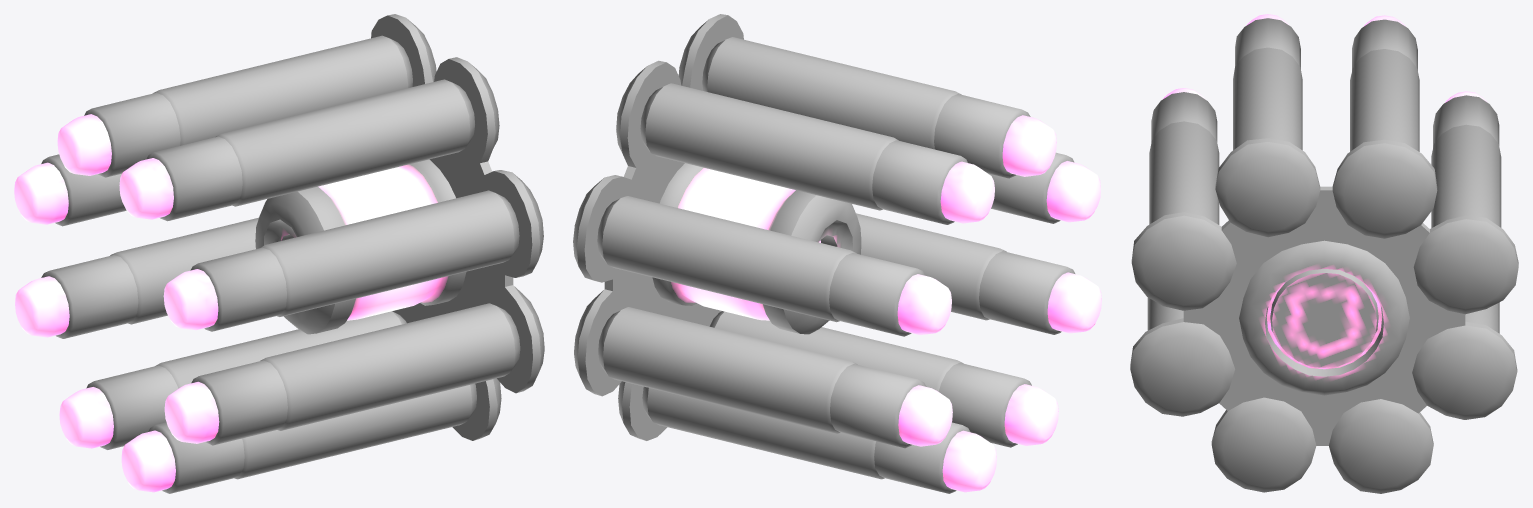
Rendered from RevolverClip_SM.FBX.
The picture shows the model from 3 angles, left to right: view 1: azimuth 30°, elevation 25°; view 2: azimuth 150°, elevation 25°; view 3: azimuth 270°, elevation 25°; orthographic projection. The views are drawn at different scales.
Visible parts, largest first — view 1: RevolverClip_SM; view 2: RevolverClip_SM; view 3: RevolverClip_SM.
Boxes of the visible parts, bbox=[...] form: RevolverClip_SM: bbox=[14, 14, 544, 493]; RevolverClip_SM: bbox=[573, 14, 1101, 493]; RevolverClip_SM: bbox=[1130, 14, 1518, 493].
Size of the model in its own units: 14.59 by 14.89 by 14.89.
